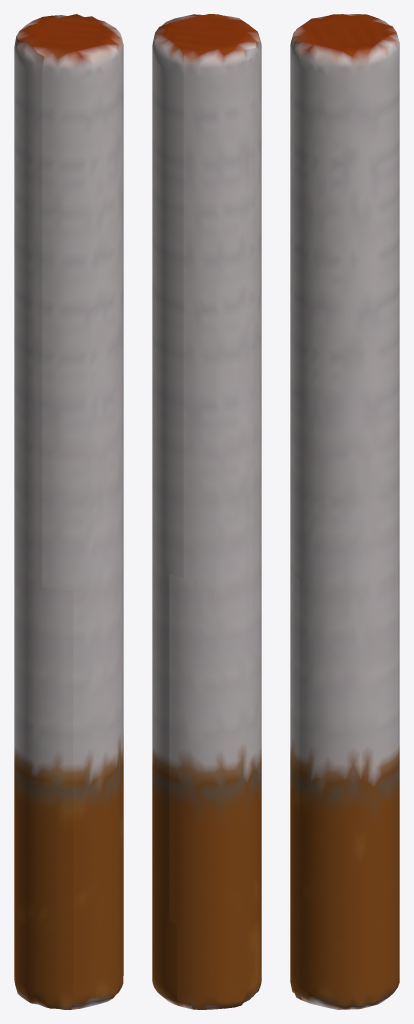
Rendered from Cigarette.fbx.
The picture shows the model from 3 angles, left to right: view 1: azimuth 30°, elevation 25°; view 2: azimuth 210°, elevation 25°; view 3: azimuth 330°, elevation 25°; orthographic projection.
Parts seen in each view (by area): view 1: Cigarette 1; view 2: Cigarette 1; view 3: Cigarette 1.
Part boxes in pixels (left/top/right/bottom): Cigarette 1: left=14, top=14, right=123, bottom=1009; Cigarette 1: left=152, top=14, right=261, bottom=1009; Cigarette 1: left=290, top=14, right=399, bottom=1009.
Size of the model in its own units: 1.02 by 9.91 by 1.03.
